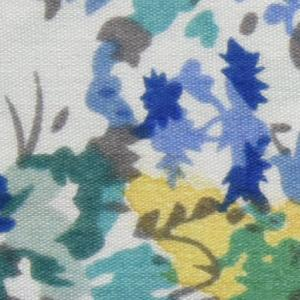Oil Stain: (121, 168, 300, 300)
